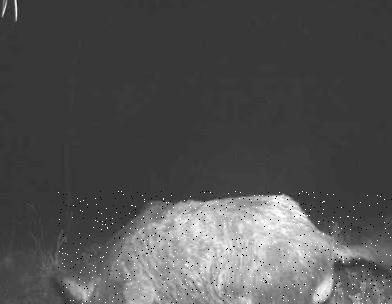Hog: (58, 191, 392, 304)
